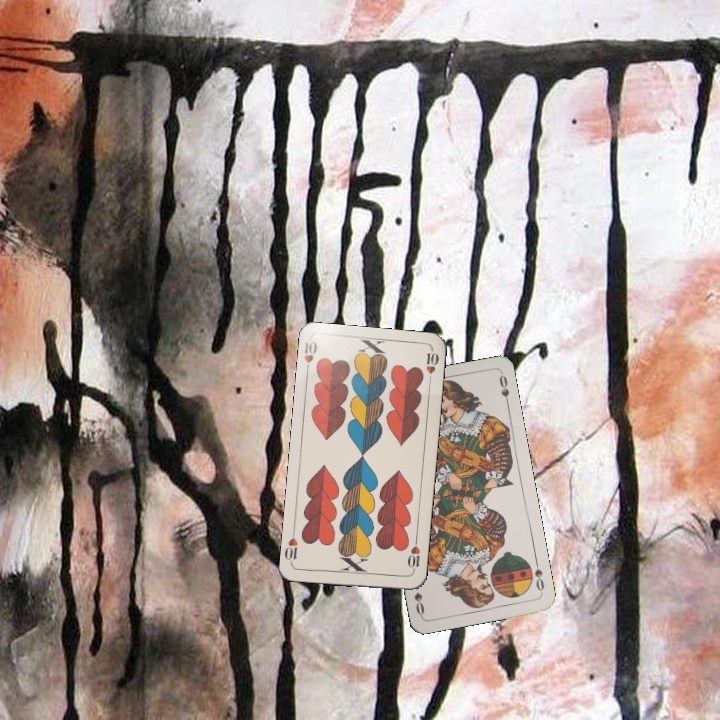H10: (300, 337, 320, 377), (404, 535, 423, 575)
SO: (531, 556, 547, 596)
